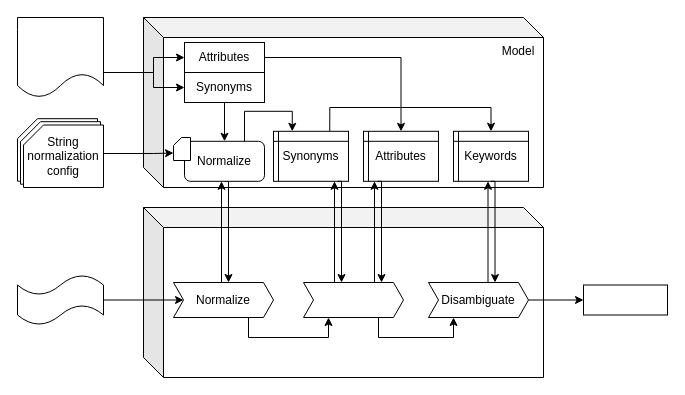
This 685x395 diagram has some shape labels left out. Each missing label, with the box of its shape:
Dictionary: (16, 16, 104, 98)
Lookup: (302, 282, 404, 318)
Result: (582, 284, 668, 315)
Text: (16, 274, 104, 325)
Utility: (142, 206, 544, 378)
